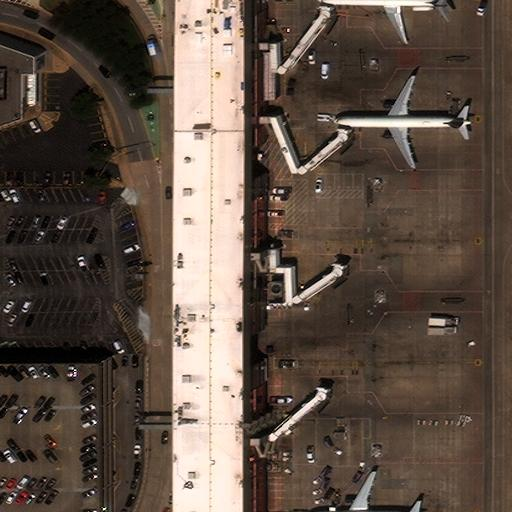Medium Civil Transport: (332, 75, 474, 169), (315, 0, 449, 44), (315, 470, 419, 512)
